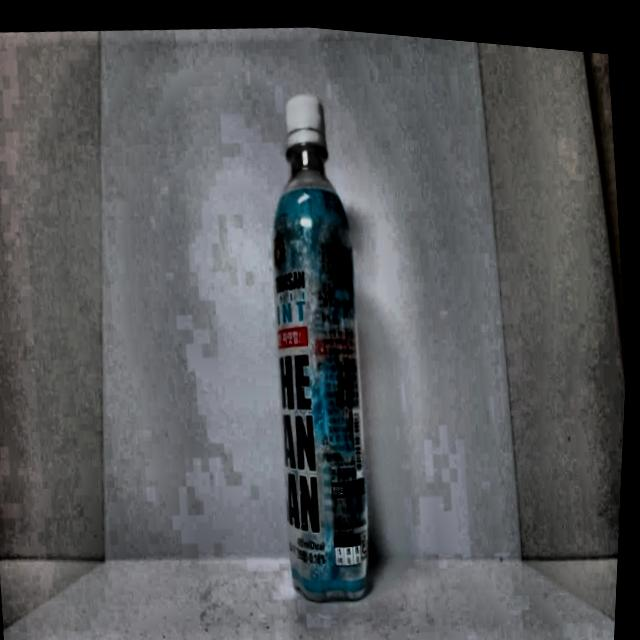Bottles: (236, 70, 406, 613)
